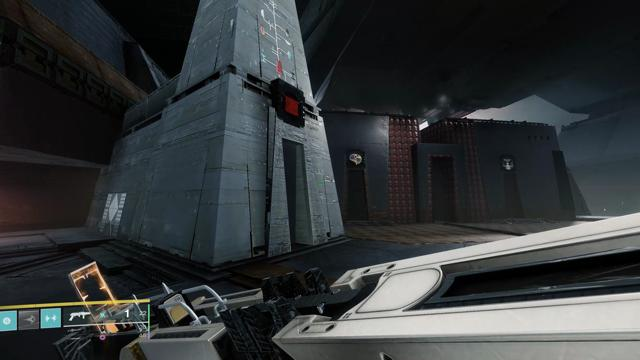brain: (349, 151, 363, 167)
drink: (501, 156, 515, 171)
stop: (281, 91, 302, 120)
